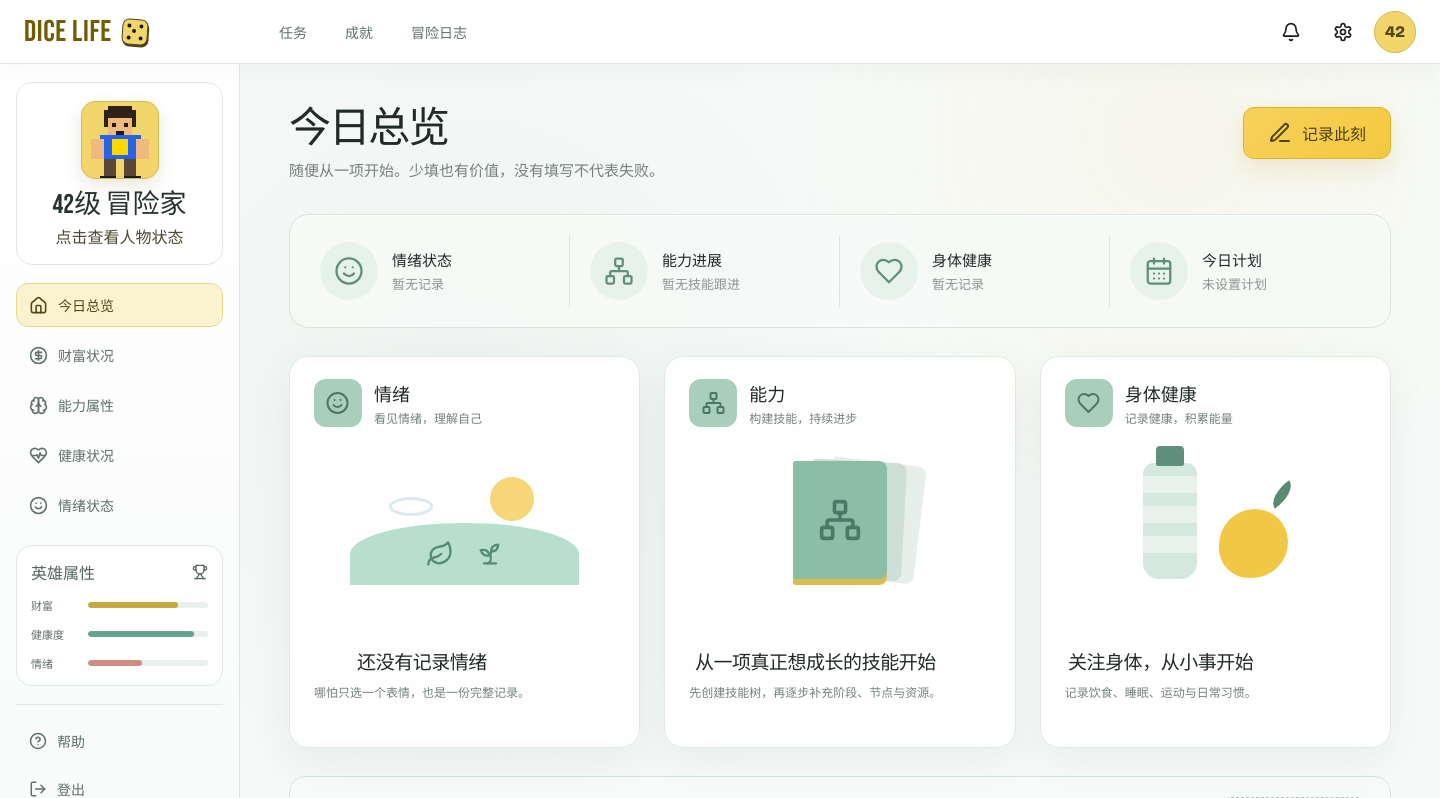
Test: Dice Life adventure journal navigation › does not distract a visitor who can already make a partial investment
Click the button "冒险日志" at (439, 32), box [396, 10, 482, 54]
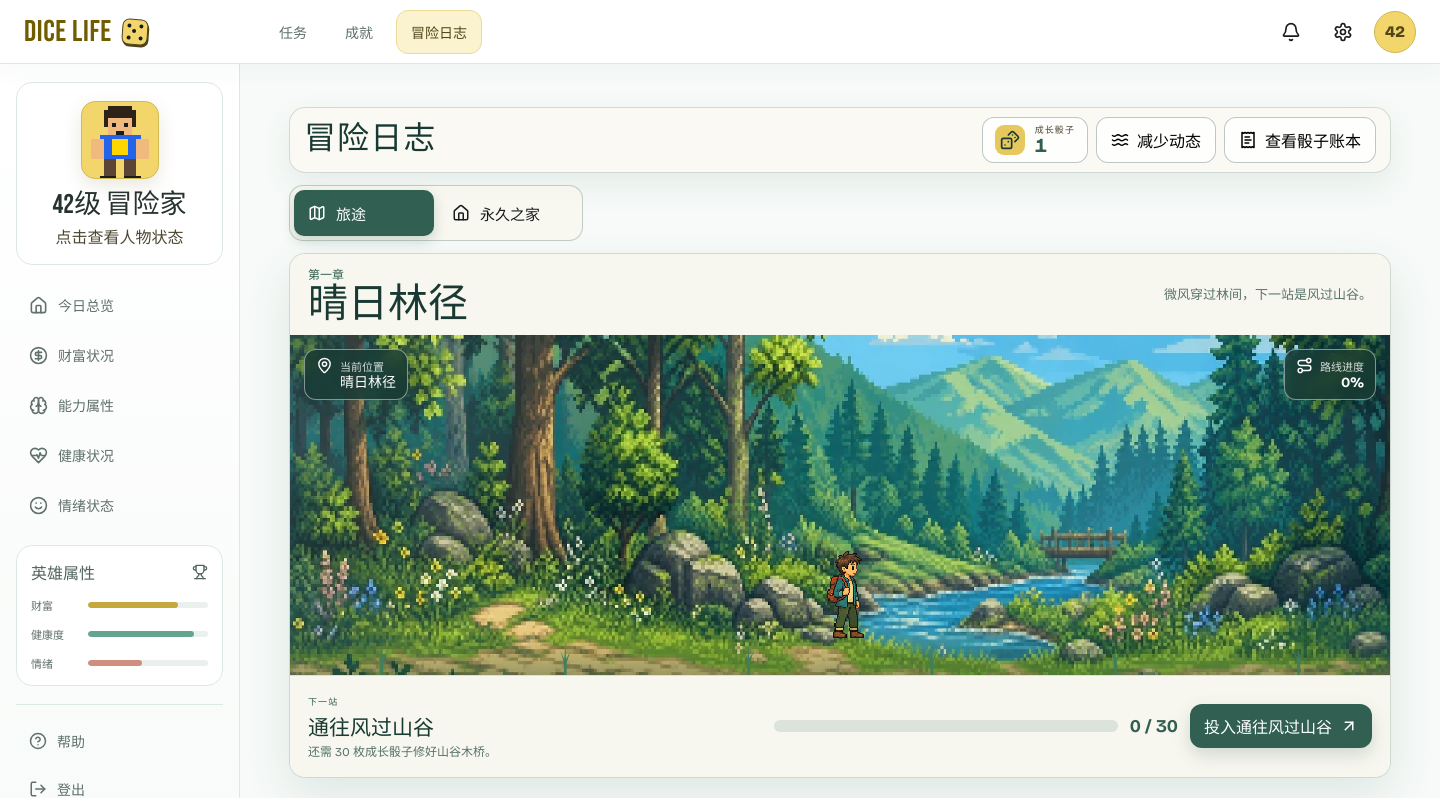
Click the button "投入通往风过山谷" at (1281, 726), box [1190, 704, 1372, 748]
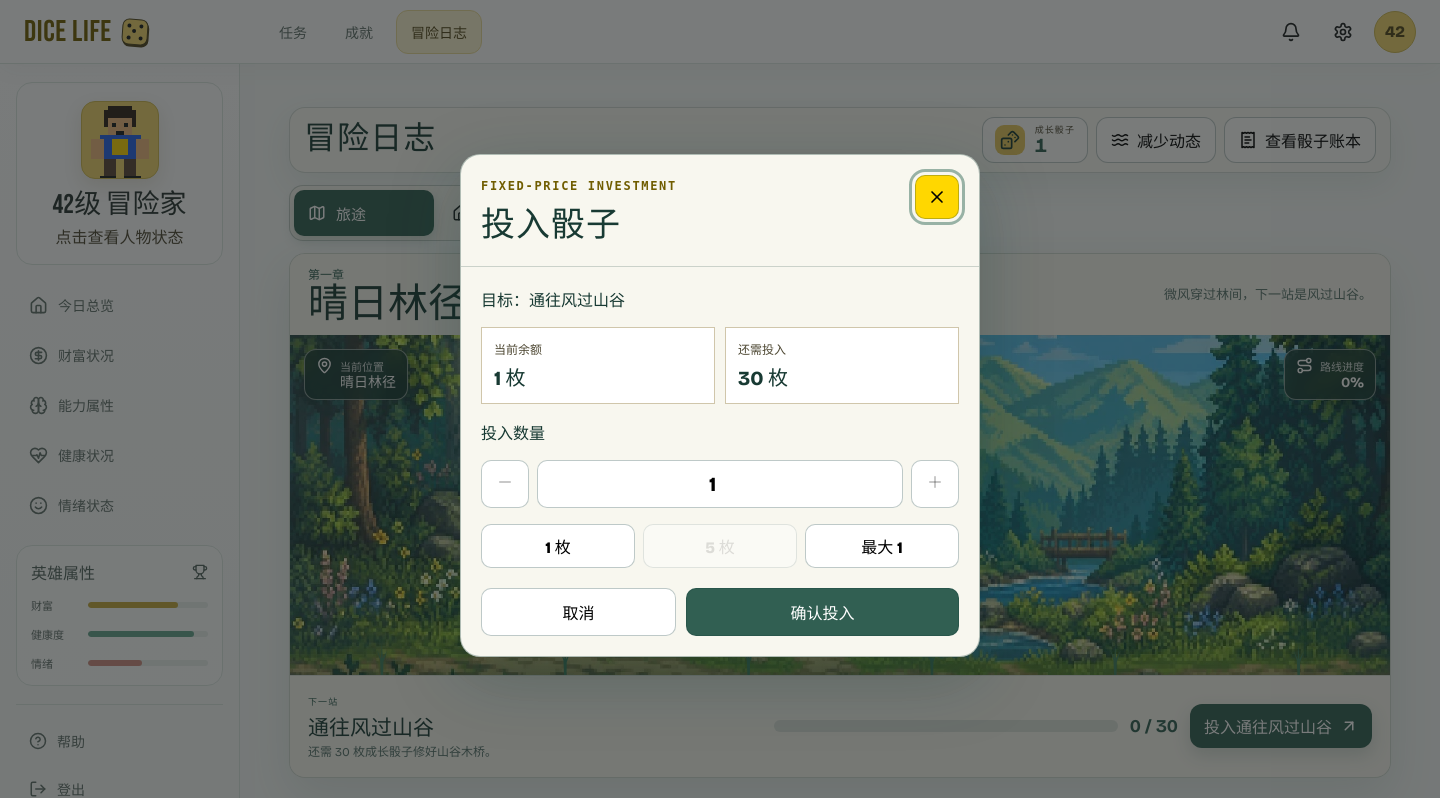
Now the element named "成长骰子余额 1" is shown, box [982, 117, 1088, 163]
Now the button "确认投入" is enabled, box [686, 588, 959, 636]
